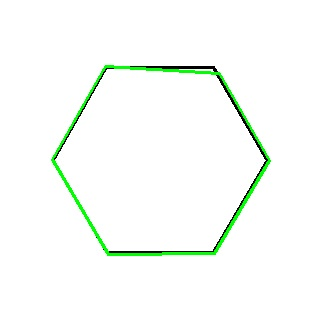line_segment: (52, 65, 270, 255)
